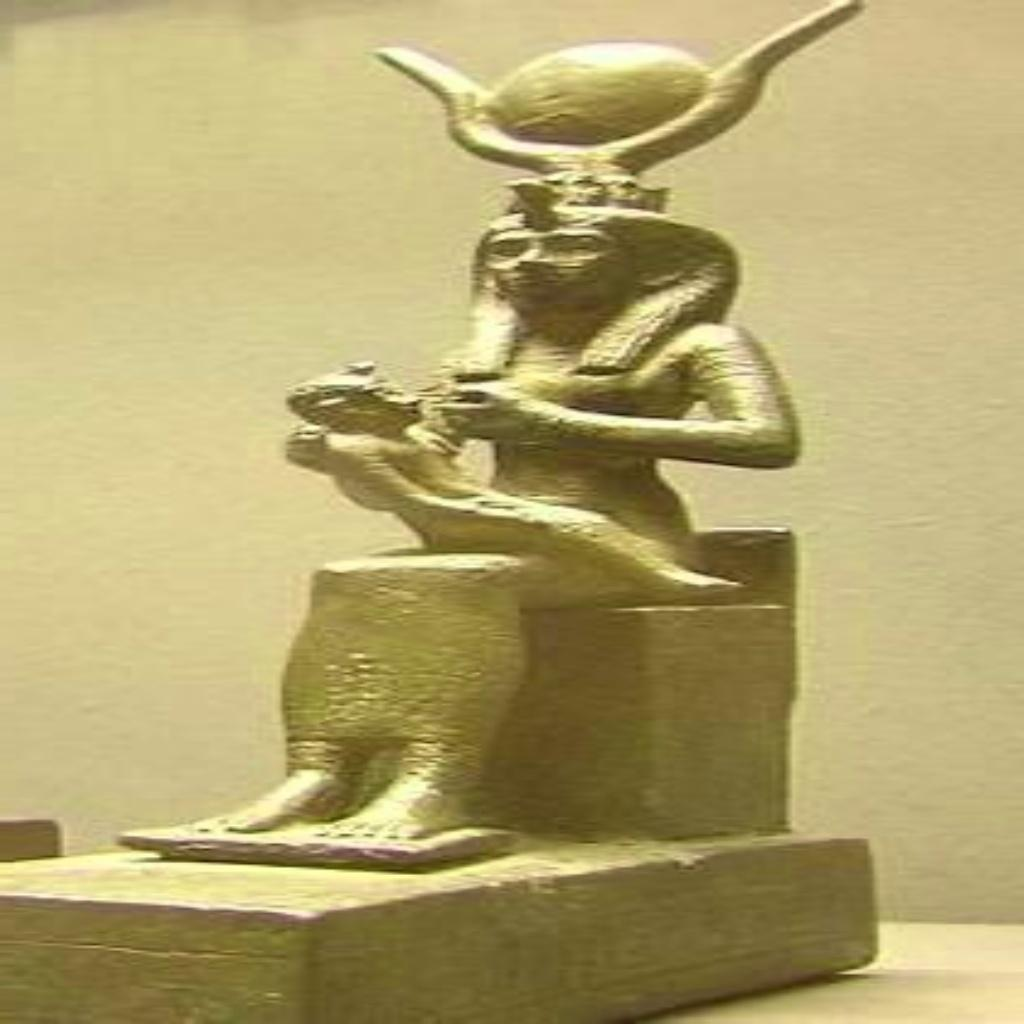Isis with her child: (116, 0, 884, 872)
